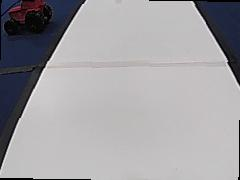Tracktor: (4, 0, 55, 35)
